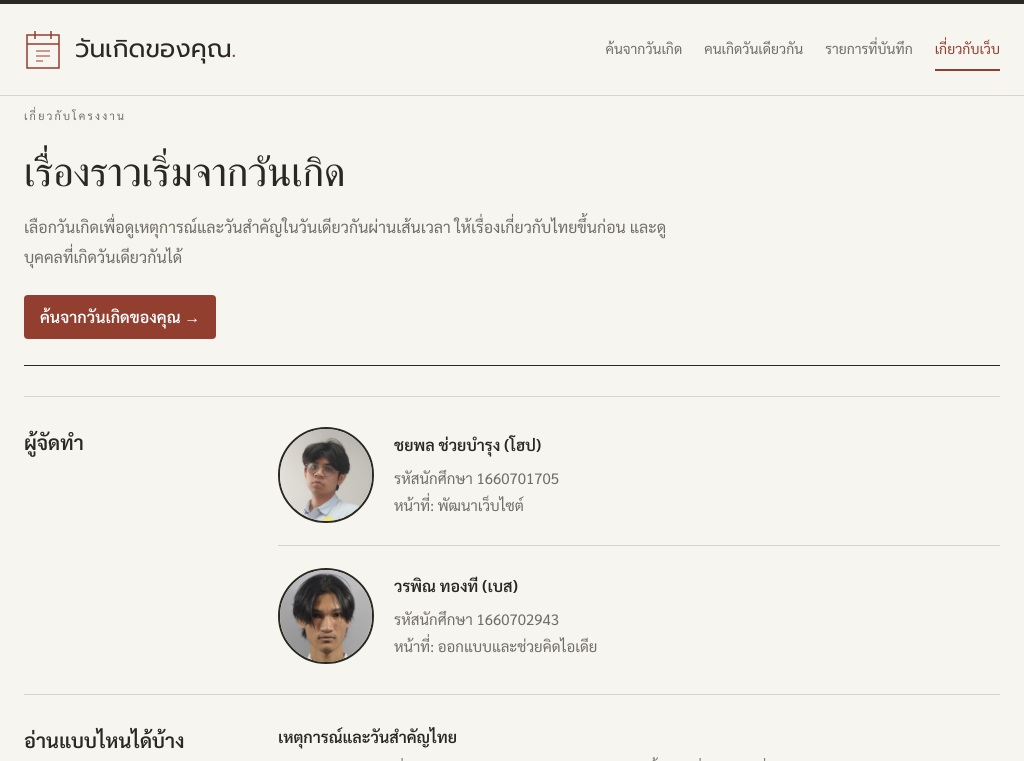
Scenario: server state and routing › renders every page inside the root layout with active NavLinks
The image size is (1024, 761).
Expected: the navigation bar named "เมนูหลัก" is shown, top-left (24, 28), bottom-right (1000, 72)
Expected: the heading "ชยพล ช่วยบำรุง (โฮป)" is shown, top-left (394, 433), bottom-right (559, 457)
Click the link "รายการที่บันทึก": click(869, 48) top-left (825, 39), bottom-right (913, 57)
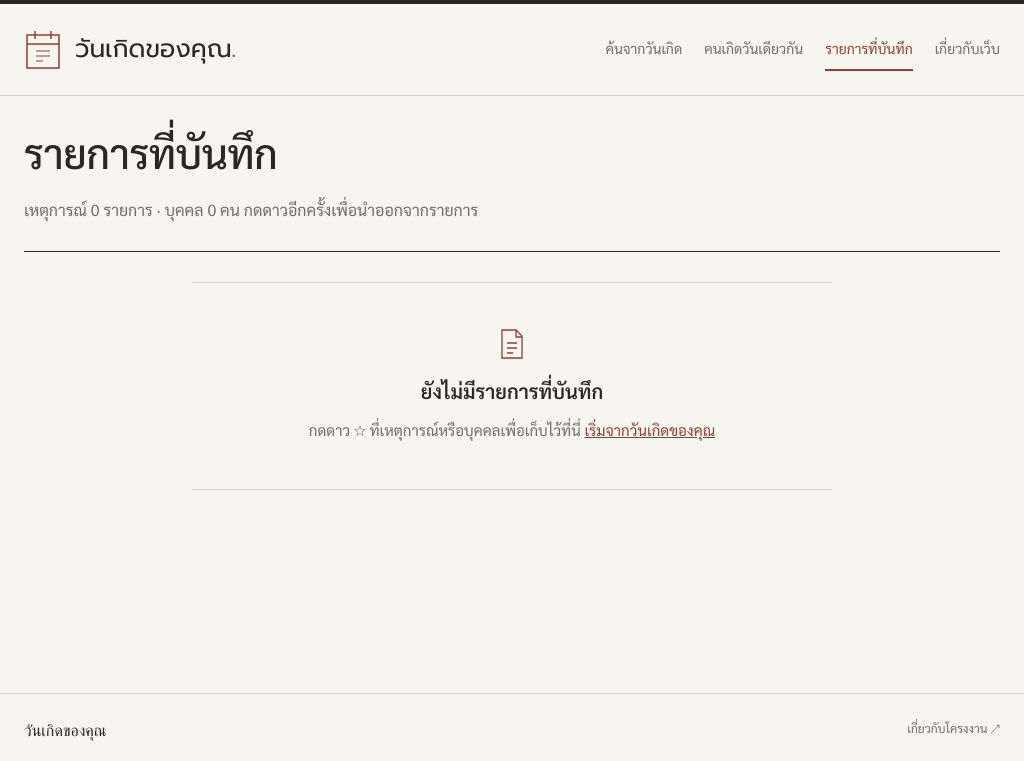
Expected: the navigation bar named "เมนูหลัก" is shown, top-left (24, 28), bottom-right (1000, 72)
Now the heading "รายการที่บันทึก" is shown, box top-left (24, 125), bottom-right (278, 179)
